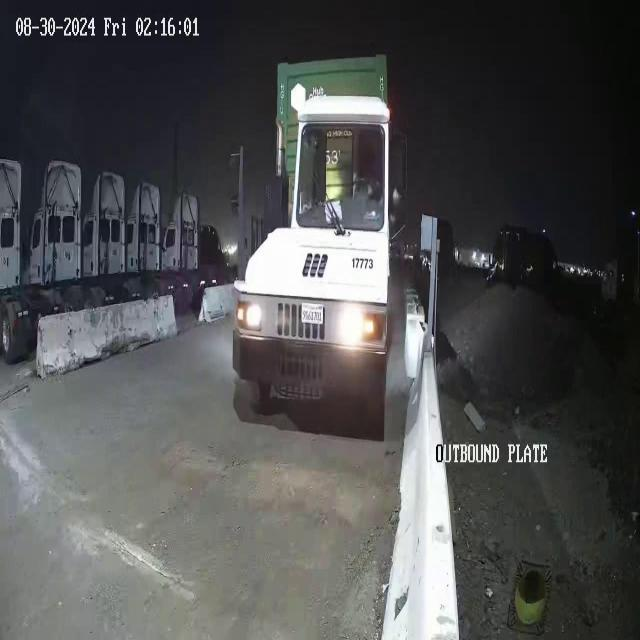TRUCK_OUT: (230, 53, 408, 440)
